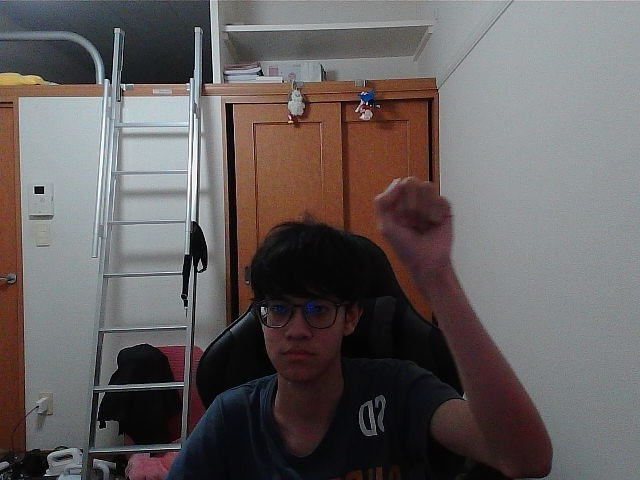closed_palm: (386, 182, 443, 267)
